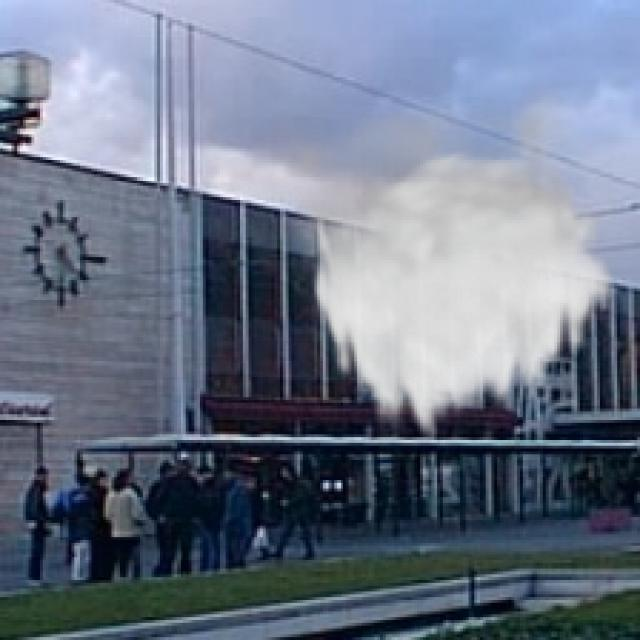Smoke: (245, 80, 618, 446)
